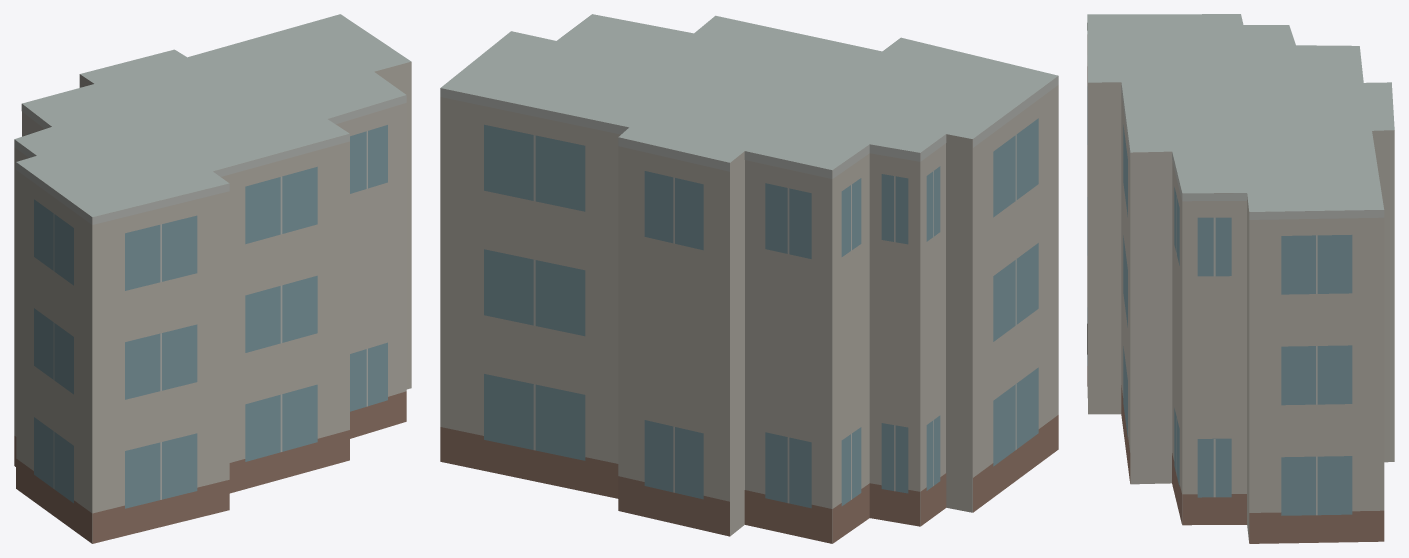
Rendered from survey-upis-32939818.glb.
3 views of the same model, side by side, from view 1: azimuth 30°, elevation 25°; view 2: azimuth 150°, elevation 25°; view 3: azimuth 270°, elevation 25° (orthographic). The views are drawn at different scales.
Parts seen in each view (by area): view 1: survey-upis-32939818.tmp; view 2: survey-upis-32939818.tmp; view 3: survey-upis-32939818.tmp.
Boxes of the visible parts, x1,y1,x2,y2 form: survey-upis-32939818.tmp: [14, 14, 411, 543]; survey-upis-32939818.tmp: [440, 14, 1058, 543]; survey-upis-32939818.tmp: [1087, 14, 1394, 543].
Size of the model in its own units: 13.07 by 10.2 by 8.58.
